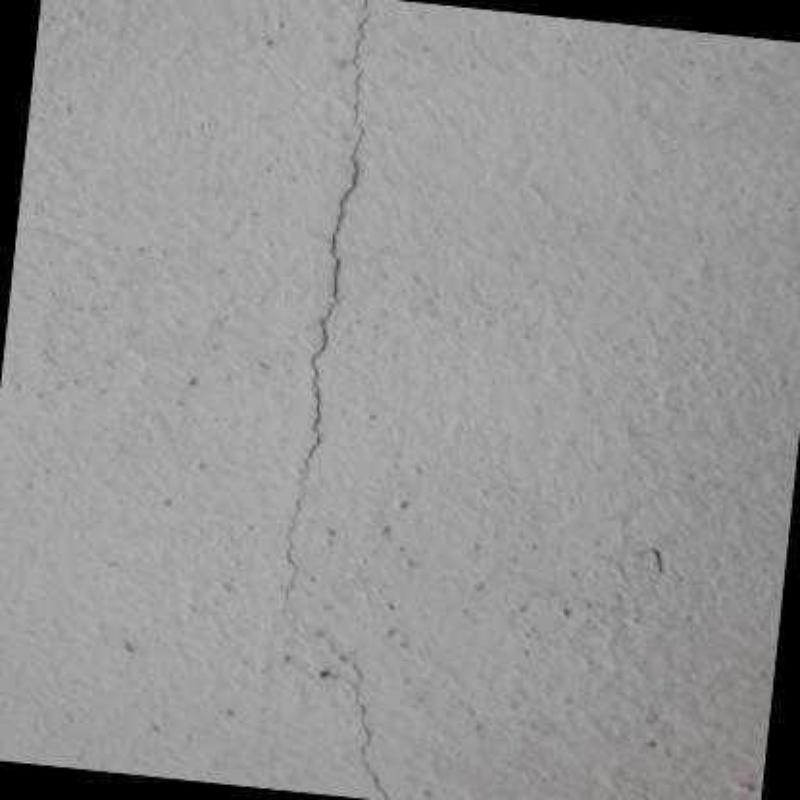crack: (284, 126, 391, 800), (354, 0, 369, 127)
